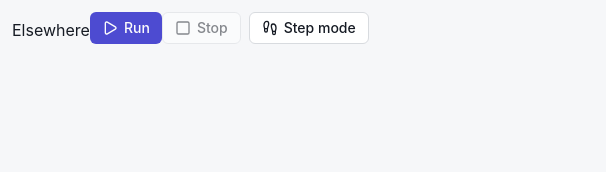
Scenario: RunControls in step mode › shows the F10 shortcut in the tooltip of Next step
The image size is (606, 172).
Click the button "Step mode": [309, 28] box [249,12,369,44]
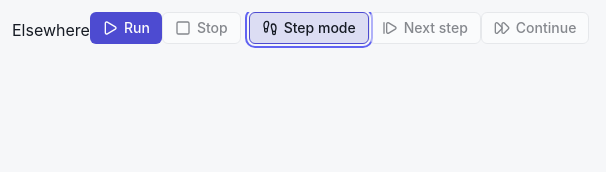
Click the button "Run": [126, 28] box [90,12,162,44]
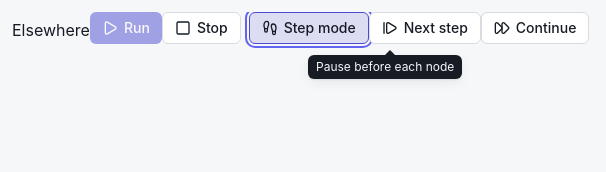
Press Tab
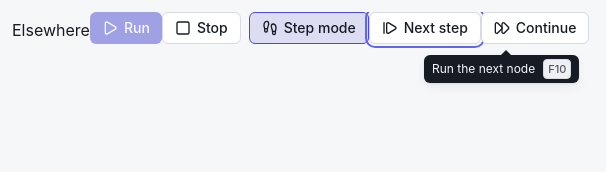
Expected: the tooltip reads "Run the next node F10", [424,55,579,83]
